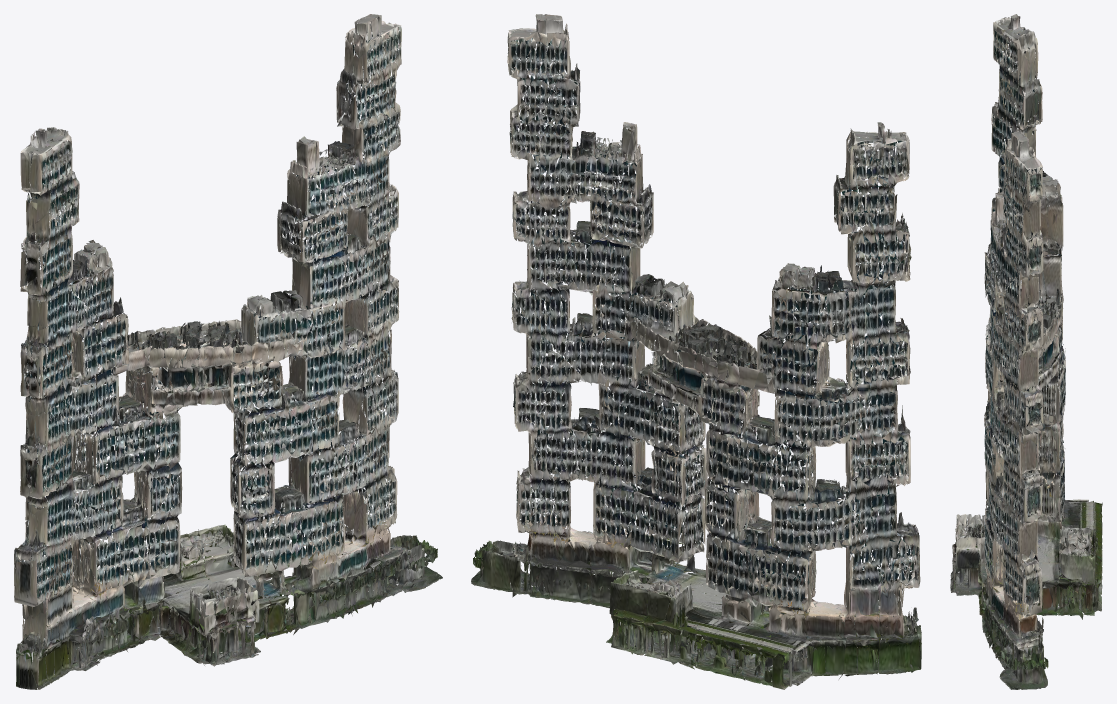
The model's file is royal-atlantis.glb.
The picture shows the model from 3 angles, left to right: view 1: azimuth 30°, elevation 25°; view 2: azimuth 150°, elevation 25°; view 3: azimuth 270°, elevation 25°; orthographic projection. The views are drawn at different scales.
Visible parts, largest first — view 1: Mesh_0; view 2: Mesh_0; view 3: Mesh_0.
Part boxes in pixels (x1,y1,x2,y2): Mesh_0: (14,14,442,689); Mesh_0: (471,14,921,689); Mesh_0: (950,14,1102,689).
Bounding box in the file's own units: 150 × 193 × 49.99.
1 material, 1 textured.
